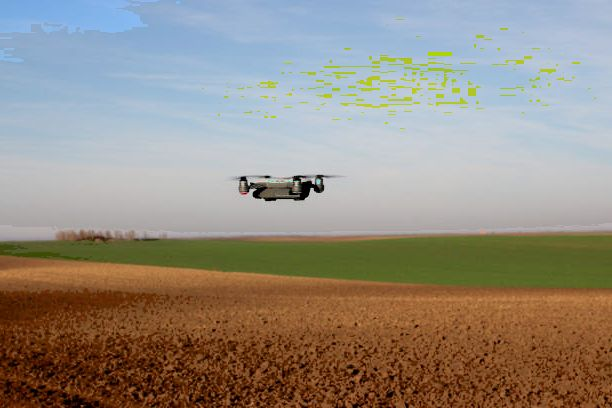Drone: (230, 165, 344, 205)
